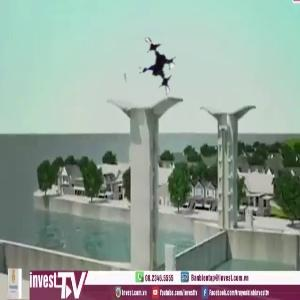drone: (119, 38, 186, 105)
